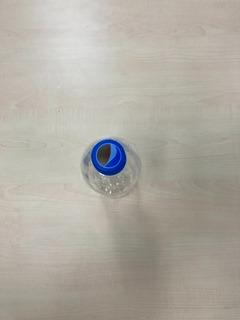BIODEGRADABLE: (77, 130, 145, 209)
